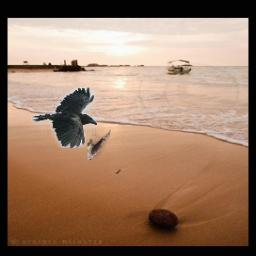Crow: (31, 87, 97, 148)
Cuckoo: (88, 129, 112, 161)
